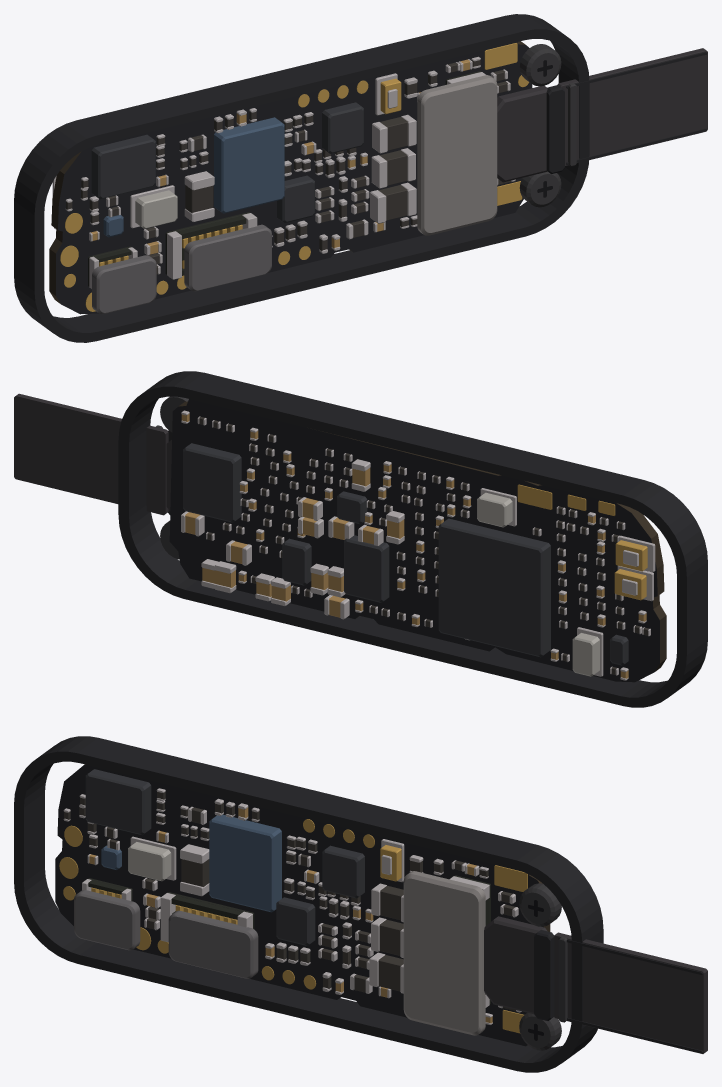
Rendered from g2-temple-assembly.glb.
The picture shows the model from 3 angles, top to bottom: view 1: azimuth 30°, elevation 25°; view 2: azimuth 150°, elevation 25°; view 3: azimuth 330°, elevation 25°; orthographic projection. The views are drawn at different scales.
Parts seen in each view (by area): view 1: Visible temple perimeter rim, PCB substrate, Large metal-looking cover, Projecting flex segment, Dark flex bridge, U25643 package, Central connector foil, Rounded-end package, Round-end connector foil, Centre horizontal socket, Inner square package, Rectangular metal-capped part (+10 smaller); view 2: PCB substrate, Visible temple perimeter rim, AP510BFA package, Projecting flex segment, GX8002D marking package, Reverse upper middle package, Rounded-end upper metal can, Lower metal can, Reverse compact upper package, Rounded-end lower spring, Rounded-end upper spring, Reverse compact lower package (+7 smaller); view 3: Visible temple perimeter rim, PCB substrate, Projecting flex segment, Large metal-looking cover, Dark flex bridge, U25643 package, Central connector foil, Rounded-end package, Round-end connector foil, Inner square package, Centre horizontal socket, Rectangular metal-capped part (+11 smaller).
Boxes of the visible parts, x1=… form: Visible temple perimeter rim: x1=14, y1=14, x2=589, y2=342; PCB substrate: x1=49, y1=41, x2=532, y2=314; Large metal-looking cover: x1=417, y1=75, x2=497, y2=235; Projecting flex segment: x1=557, y1=48, x2=707, y2=166; Dark flex bridge: x1=497, y1=85, x2=564, y2=182; U25643 package: x1=214, y1=117, x2=284, y2=213; Central connector foil: x1=184, y1=224, x2=271, y2=291; Rounded-end package: x1=91, y1=134, x2=155, y2=199; Round-end connector foil: x1=92, y1=255, x2=156, y2=314; Centre horizontal socket: x1=165, y1=212, x2=257, y2=279; Inner square package: x1=322, y1=102, x2=363, y2=153; Rectangular metal-capped part: x1=130, y1=185, x2=177, y2=228; PCB substrate: x1=169, y1=399, x2=666, y2=682; Visible temple perimeter rim: x1=118, y1=371, x2=707, y2=707; AP510BFA package: x1=438, y1=518, x2=550, y2=657; Projecting flex segment: x1=14, y1=393, x2=168, y2=515; GX8002D marking package: x1=183, y1=443, x2=241, y2=522; Reverse upper middle package: x1=344, y1=535, x2=389, y2=602; Rounded-end upper metal can: x1=572, y1=627, x2=603, y2=676; Lower metal can: x1=477, y1=488, x2=516, y2=527; Reverse compact upper package: x1=282, y1=538, x2=311, y2=585; Rounded-end lower spring: x1=615, y1=535, x2=655, y2=572; Rounded-end upper spring: x1=614, y1=565, x2=653, y2=601; Reverse compact lower package: x1=337, y1=491, x2=367, y2=524; Visible temple perimeter rim: x1=14, y1=736, x2=603, y2=1072; PCB substrate: x1=55, y1=764, x2=550, y2=1046; Projecting flex segment: x1=554, y1=932, x2=707, y2=1053; Large metal-looking cover: x1=403, y1=871, x2=485, y2=1035; Dark flex bridge: x1=484, y1=916, x2=554, y2=1020; U25643 package: x1=209, y1=814, x2=281, y2=912; Central connector foil: x1=168, y1=910, x2=258, y2=978; Rounded-end package: x1=85, y1=769, x2=151, y2=835; Round-end connector foil: x1=74, y1=890, x2=140, y2=950; Inner square package: x1=322, y1=845, x2=364, y2=898; Centre horizontal socket: x1=160, y1=892, x2=254, y2=942; Rectangular metal-capped part: x1=128, y1=836, x2=176, y2=881.
Bounding box in the file's own units: 0.037 × 0.0108 × 0.00274.
